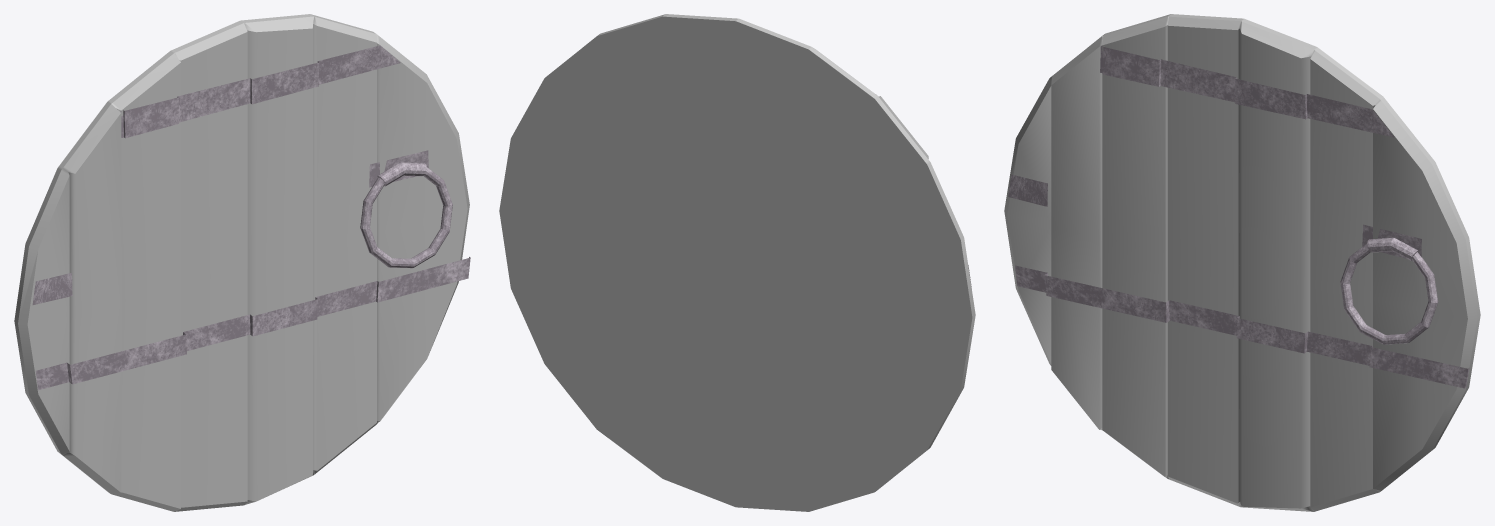
The model's file is Porte.fbx.
3 renders of one model, left to right at view 1: azimuth 30°, elevation 25°; view 2: azimuth 150°, elevation 25°; view 3: azimuth 330°, elevation 25°, orthographic.
Parts seen in each view (by area): view 1: Porte1; view 2: Porte1; view 3: Porte1.
Boxes of the visible parts, box(x1,y1,x2,y2) form: Porte1: box(14, 14, 470, 511); Porte1: box(499, 14, 975, 511); Porte1: box(1004, 14, 1480, 511).
Size of the model in its own units: 193 by 193 by 16.43.
